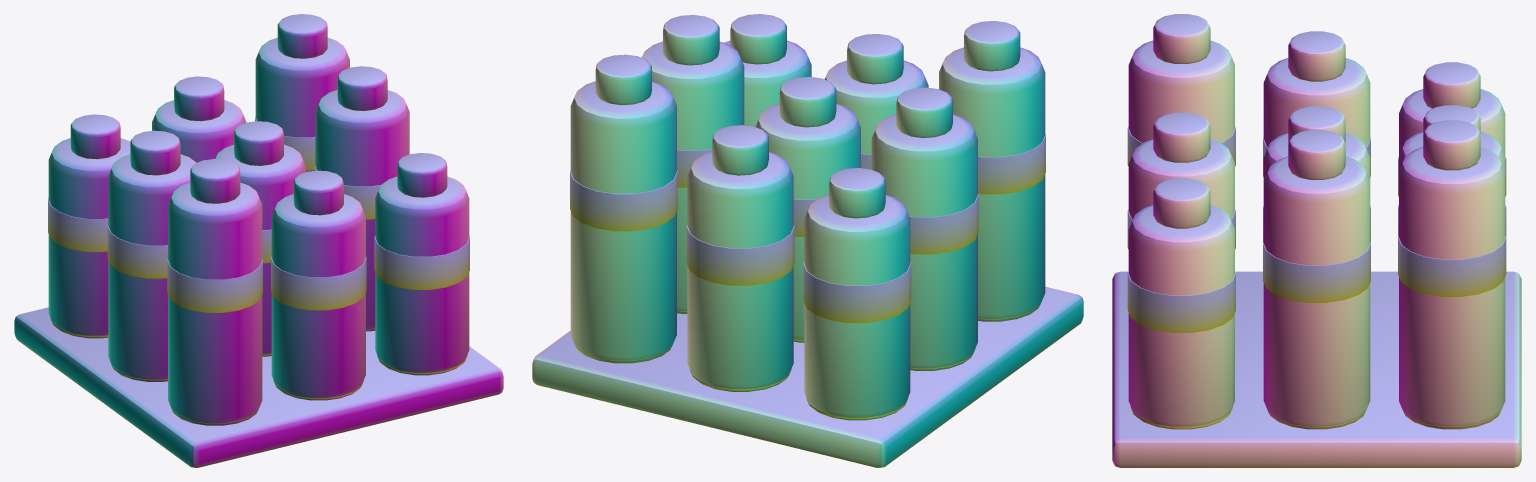
The model's file is env_bottles.glb.
3 views of the same model, side by side, from view 1: azimuth 30°, elevation 25°; view 2: azimuth 150°, elevation 25°; view 3: azimuth 270°, elevation 25° (orthographic). The views are drawn at different scales.
Visible parts, largest first — view 1: env_bottles_mesh; view 2: env_bottles_mesh; view 3: env_bottles_mesh.
Part boxes in pixels (bbox=[...]): env_bottles_mesh: bbox=[14, 14, 503, 467]; env_bottles_mesh: bbox=[532, 14, 1083, 467]; env_bottles_mesh: bbox=[1112, 14, 1521, 467].
Size of the model in its own units: 1 by 0.8388 by 1.
